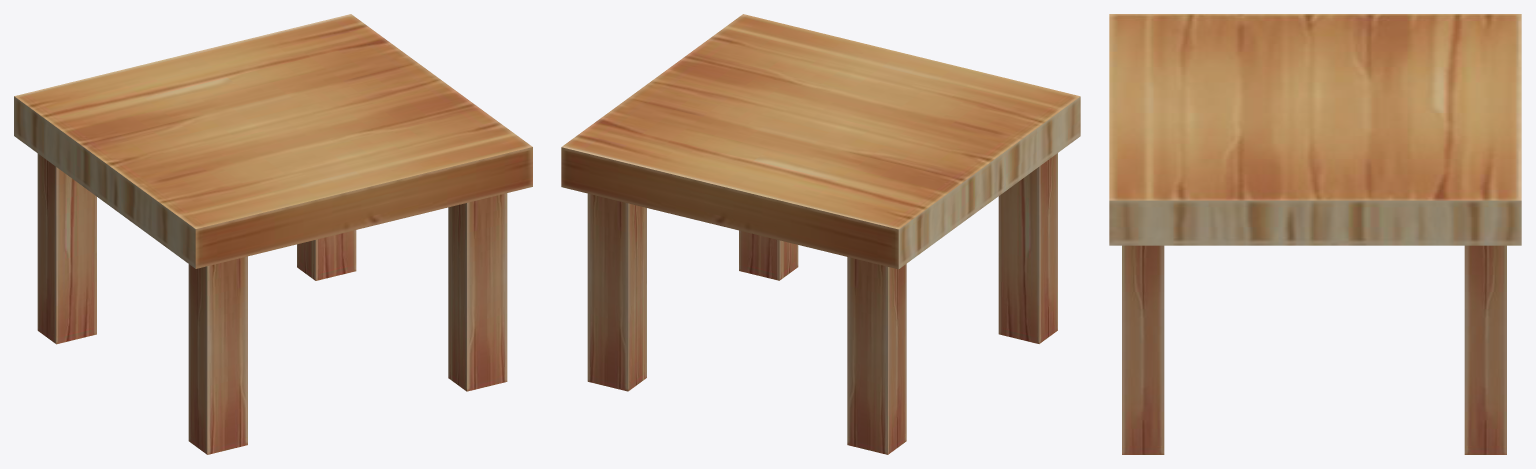
The model's file is SE_Table_01a.fbx.
3 renders of one model, left to right at view 1: azimuth 30°, elevation 25°; view 2: azimuth 150°, elevation 25°; view 3: azimuth 270°, elevation 25°, orthographic. The views are drawn at different scales.
Parts seen in each view (by area): view 1: SE_Table_01a; view 2: SE_Table_01a; view 3: SE_Table_01a.
Part boxes in pixels (box(x1,y1,x2,y2)): SE_Table_01a: box(14, 14, 532, 454); SE_Table_01a: box(561, 14, 1080, 454); SE_Table_01a: box(1109, 14, 1521, 454).
Size of the model in its own units: 2.14 by 1.42 by 2.
